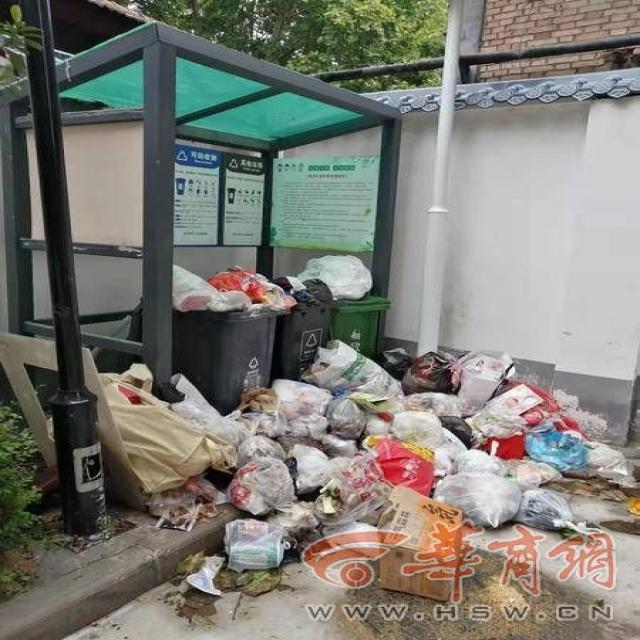garbage: (0, 330, 639, 600)
overflow: (171, 263, 290, 415), (297, 254, 390, 358), (273, 275, 333, 380)
